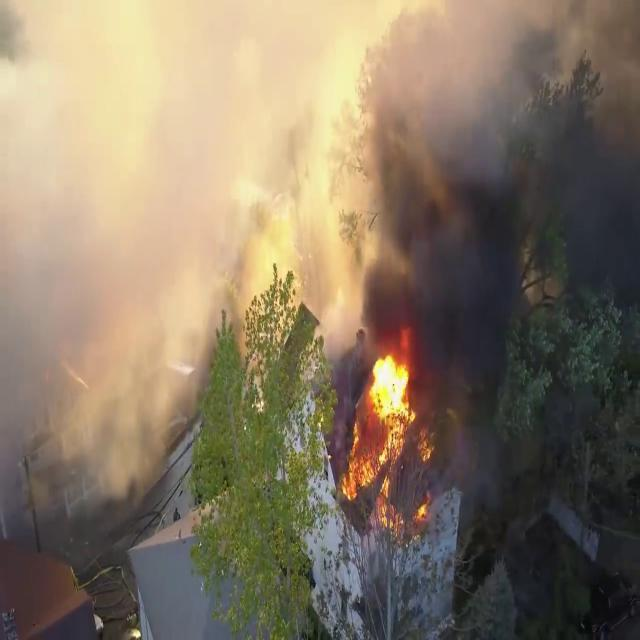Fire: (348, 342, 430, 520)
Smoke: (0, 0, 323, 510), (327, 0, 640, 398)
